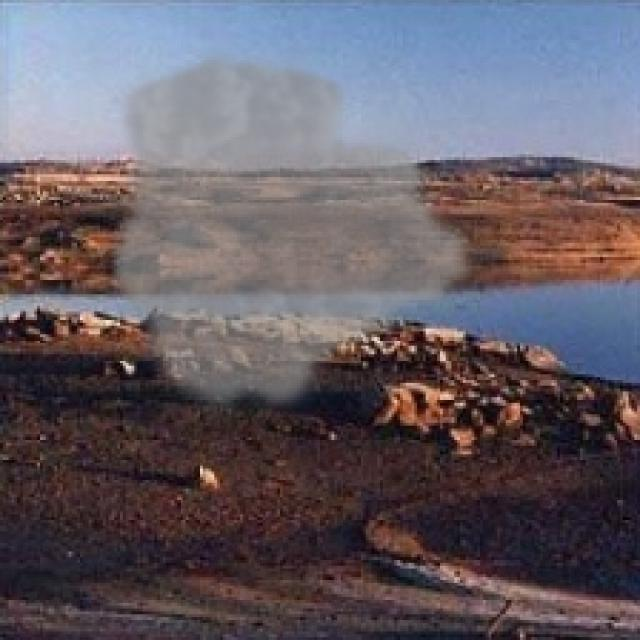Smoke: (106, 48, 480, 420)
